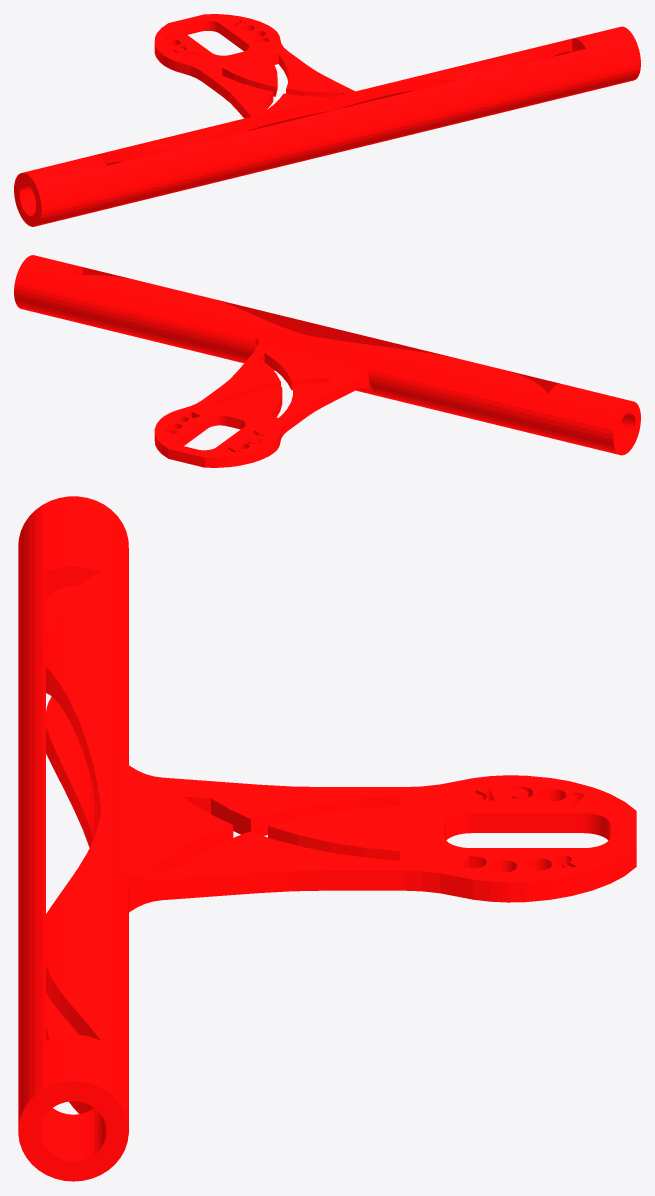
3 views of the same model, one above another, from view 1: azimuth 30°, elevation 25°; view 2: azimuth 150°, elevation 25°; view 3: azimuth 270°, elevation 25° (orthographic). The views are drawn at different scales.
Visible parts, largest first — view 1: MODERN DOOR LOCK ASSEMBLY - DOOR LOCK HANDLE-1.STL; view 2: MODERN DOOR LOCK ASSEMBLY - DOOR LOCK HANDLE-1.STL; view 3: MODERN DOOR LOCK ASSEMBLY - DOOR LOCK HANDLE-1.STL.
Boxes of the visible parts, <box> form: MODERN DOOR LOCK ASSEMBLY - DOOR LOCK HANDLE-1.STL: <box>14,14,640,226</box>; MODERN DOOR LOCK ASSEMBLY - DOOR LOCK HANDLE-1.STL: <box>14,255,640,467</box>; MODERN DOOR LOCK ASSEMBLY - DOOR LOCK HANDLE-1.STL: <box>18,496,636,1181</box>.
Bounding box in the file's own units: 2.5 × 0.1996 × 1.12.
